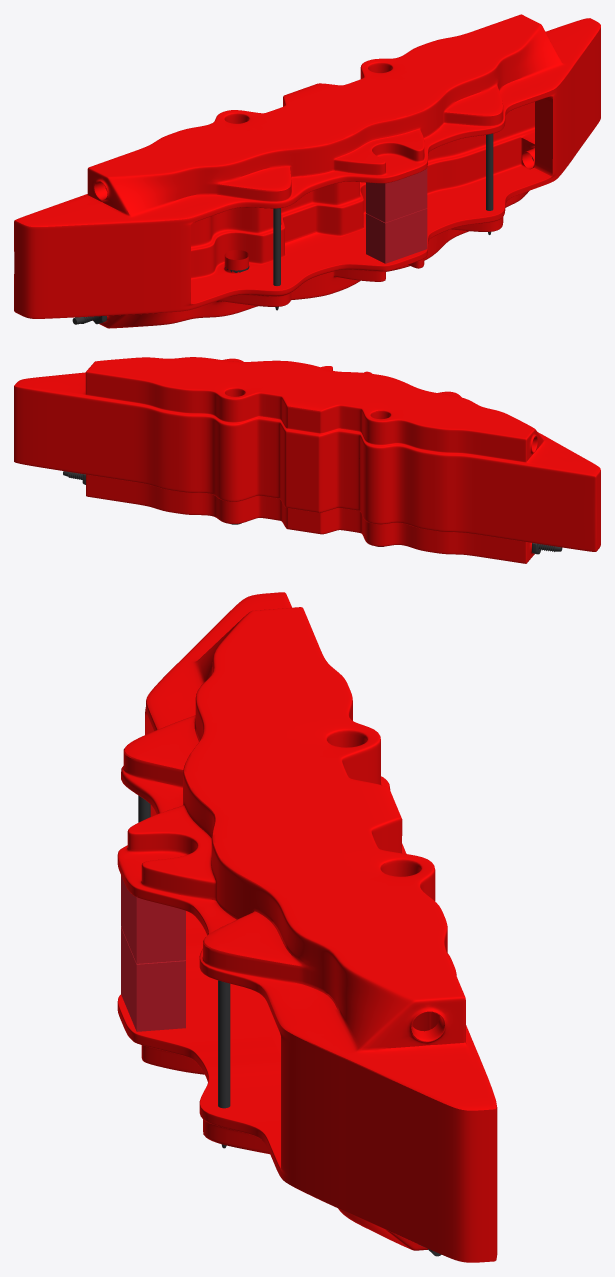
File: sport-6p.glb
3 views of the same model, one above another, from view 1: azimuth 30°, elevation 25°; view 2: azimuth 150°, elevation 25°; view 3: azimuth 270°, elevation 25° (orthographic). The views are drawn at different scales.
Visible parts, largest first — view 1: RealCaliper; view 2: RealCaliper; view 3: RealCaliper.
Boxes of the visible parts, bbox=[...] form: RealCaliper: bbox=[14, 14, 600, 328]; RealCaliper: bbox=[14, 357, 600, 563]; RealCaliper: bbox=[117, 592, 497, 1262].
Bounding box in the file's own units: 0.288 × 0.0672 × 0.0891.
